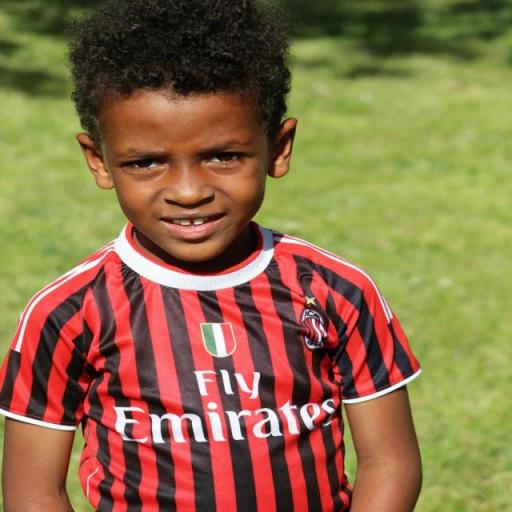Emirates: (113, 370, 334, 446)
